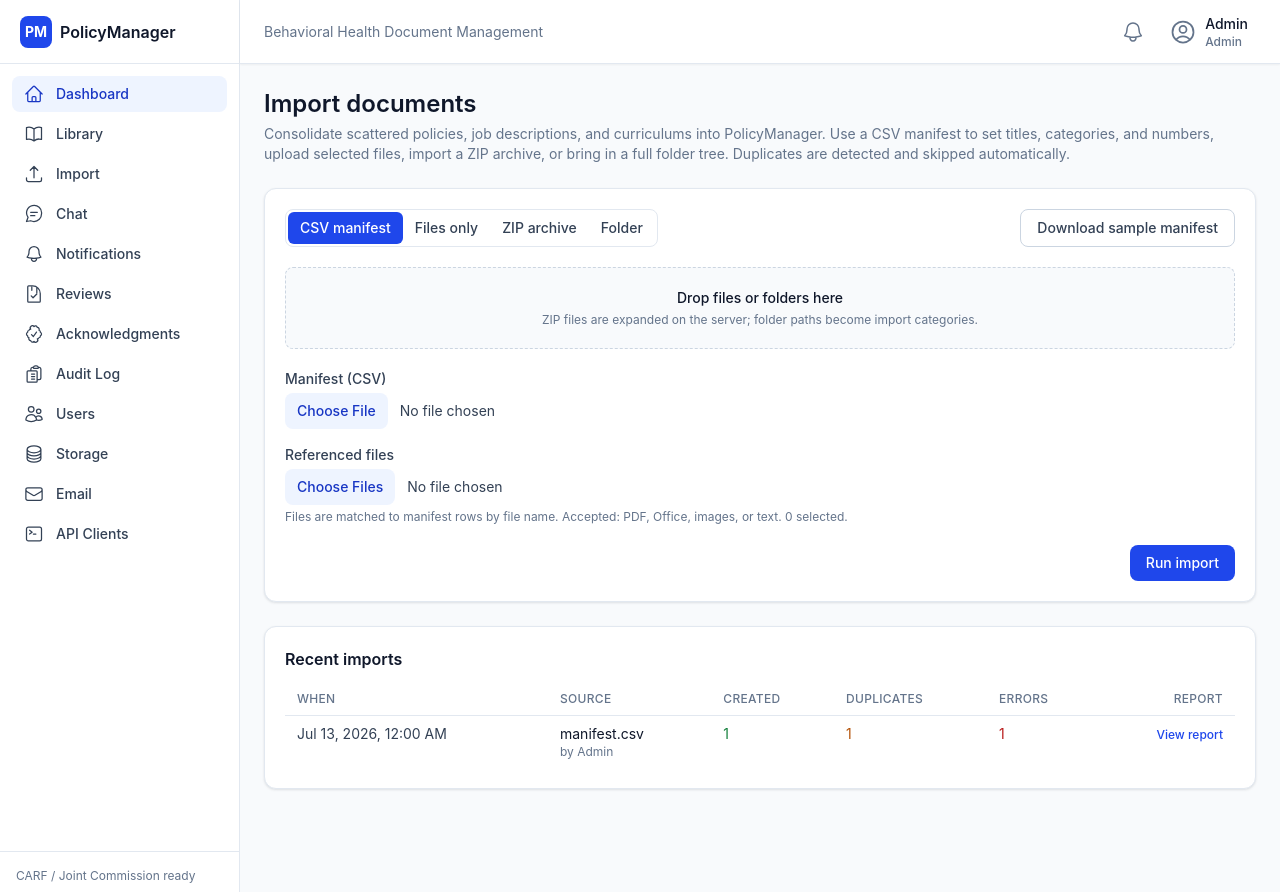
Test: ImportPage › lists recent imports and loads a batch report on demand
Note: Recent imports table populated from listImportBatches.
Step 1. Click the button "View report" → (1190, 735), box [1156,727,1223,743]
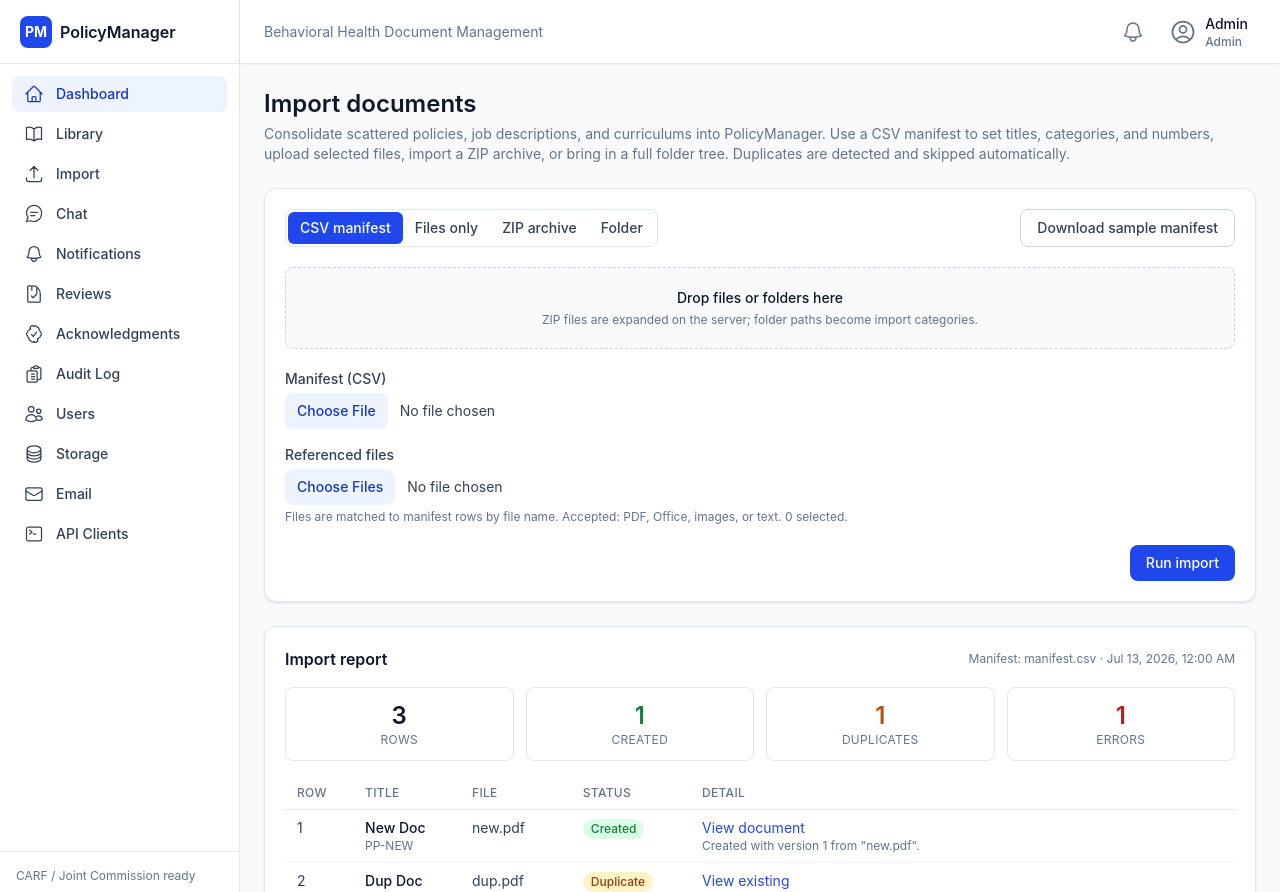
Check: the heading "Import report" is shown, box [285,647,387,671]
